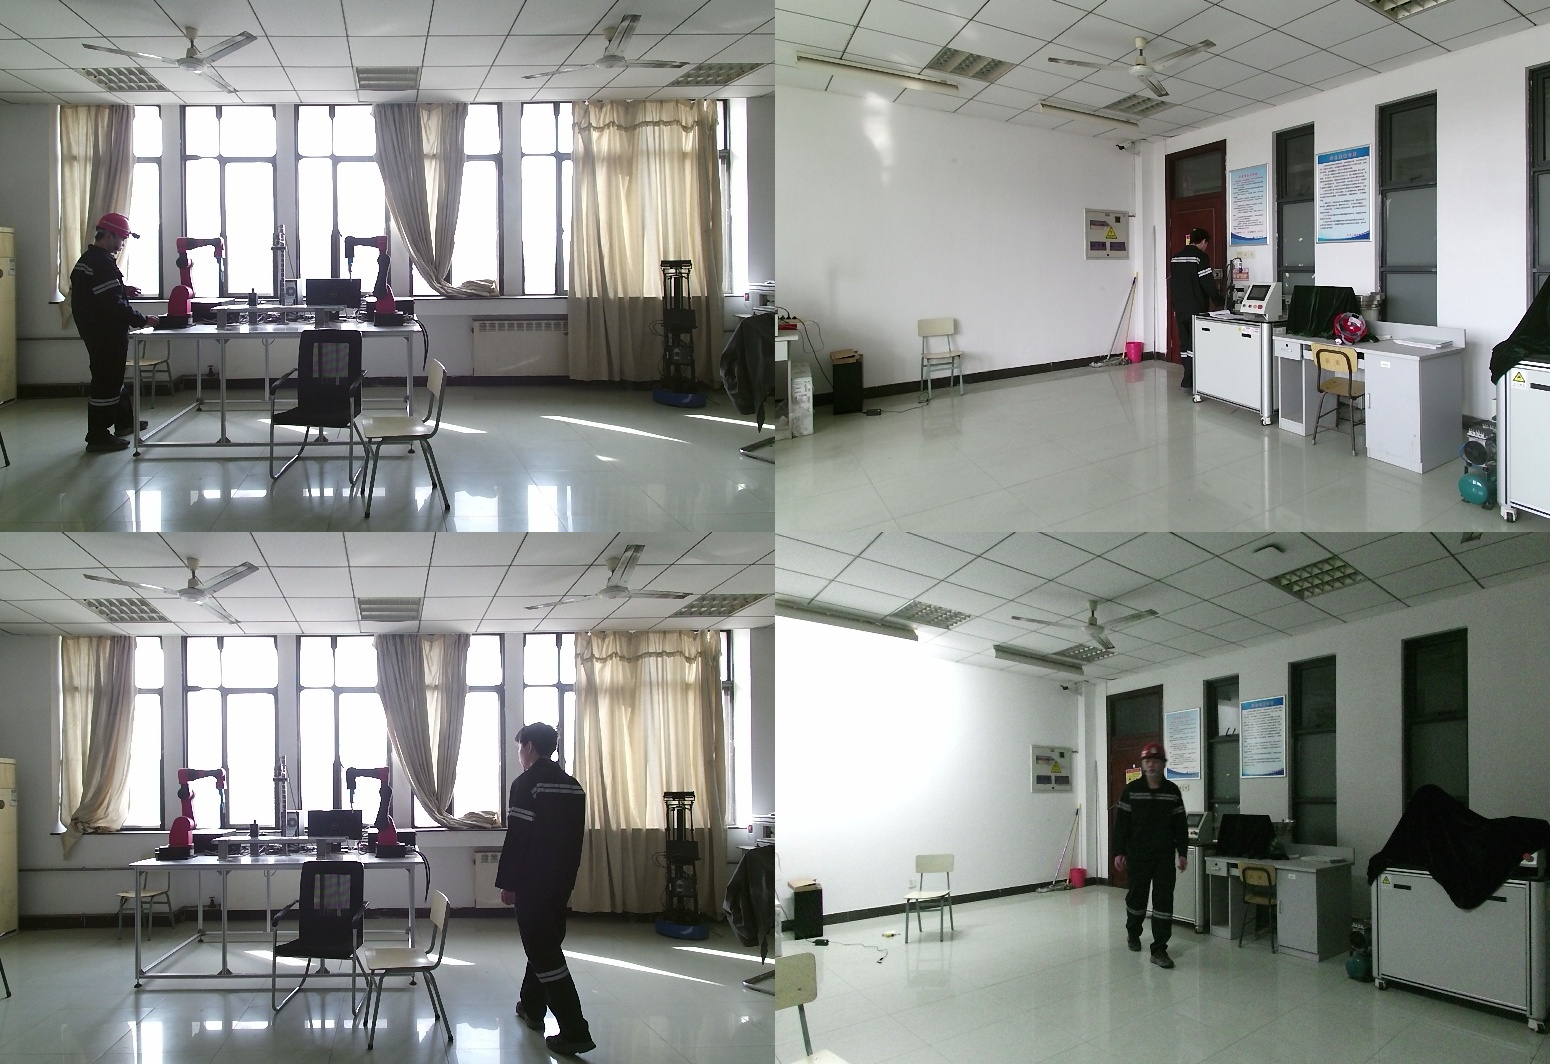person: (499, 726, 608, 1055), (68, 215, 162, 457), (1111, 747, 1195, 967), (1170, 232, 1228, 401)
